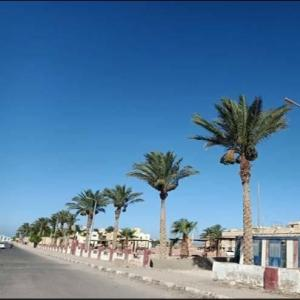palm tree: (188, 92, 291, 264), (126, 150, 198, 258), (282, 94, 300, 268), (102, 183, 144, 250), (66, 188, 108, 252), (170, 217, 197, 257)
